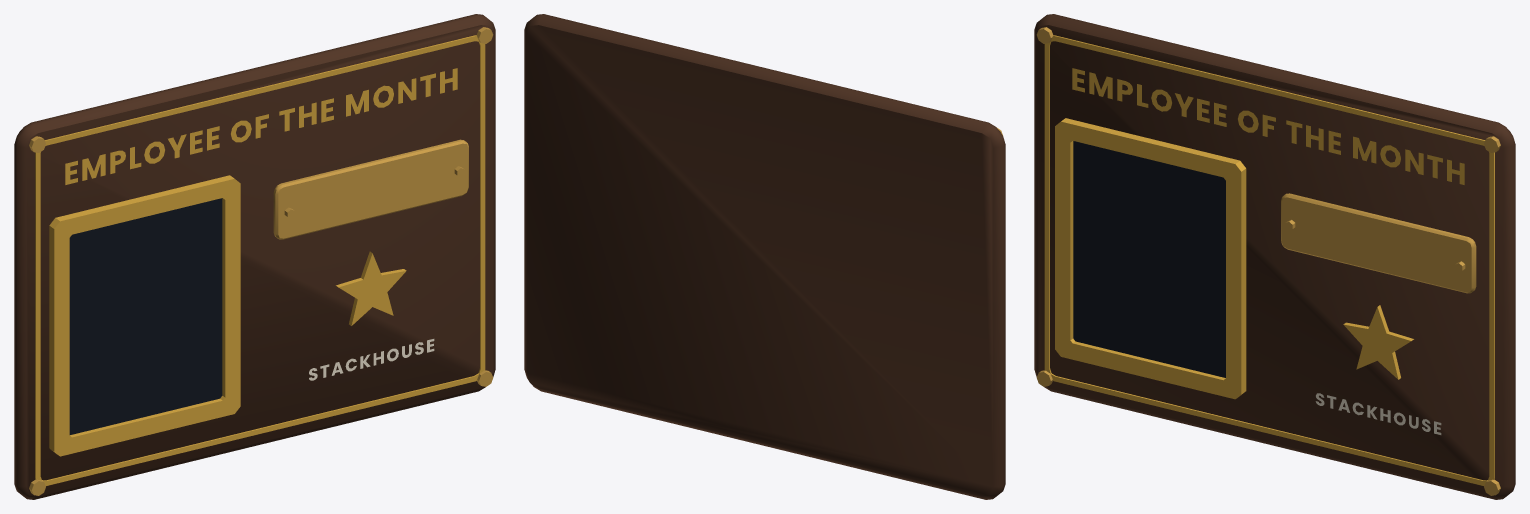
The model's file is Shop_PosterC.fbx.
3 renders of one model, left to right at view 1: azimuth 30°, elevation 25°; view 2: azimuth 150°, elevation 25°; view 3: azimuth 330°, elevation 25°, orthographic.
Parts seen in each view (by area): view 1: Board, Gilding, Photo, Nameplate, Screws, Wordmark; view 2: Board; view 3: Board, Gilding, Photo, Nameplate, Screws, Wordmark.
Part boxes in pixels (bbox=[...]): Board: bbox=[14, 14, 495, 499]; Gilding: bbox=[35, 35, 485, 485]; Photo: bbox=[69, 198, 222, 434]; Nameplate: bbox=[273, 139, 468, 239]; Screws: bbox=[29, 27, 493, 495]; Wordmark: bbox=[309, 339, 434, 380]; Board: bbox=[524, 14, 1005, 499]; Board: bbox=[1034, 14, 1515, 499]; Gilding: bbox=[1044, 35, 1494, 485]; Photo: bbox=[1073, 141, 1225, 377]; Nameplate: bbox=[1281, 193, 1476, 293]; Screws: bbox=[1036, 27, 1500, 495]; Wordmark: bbox=[1315, 393, 1441, 434].
Size of the model in its own units: 400 by 300 by 23.
